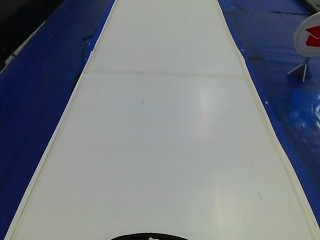school: (293, 12, 318, 59)
